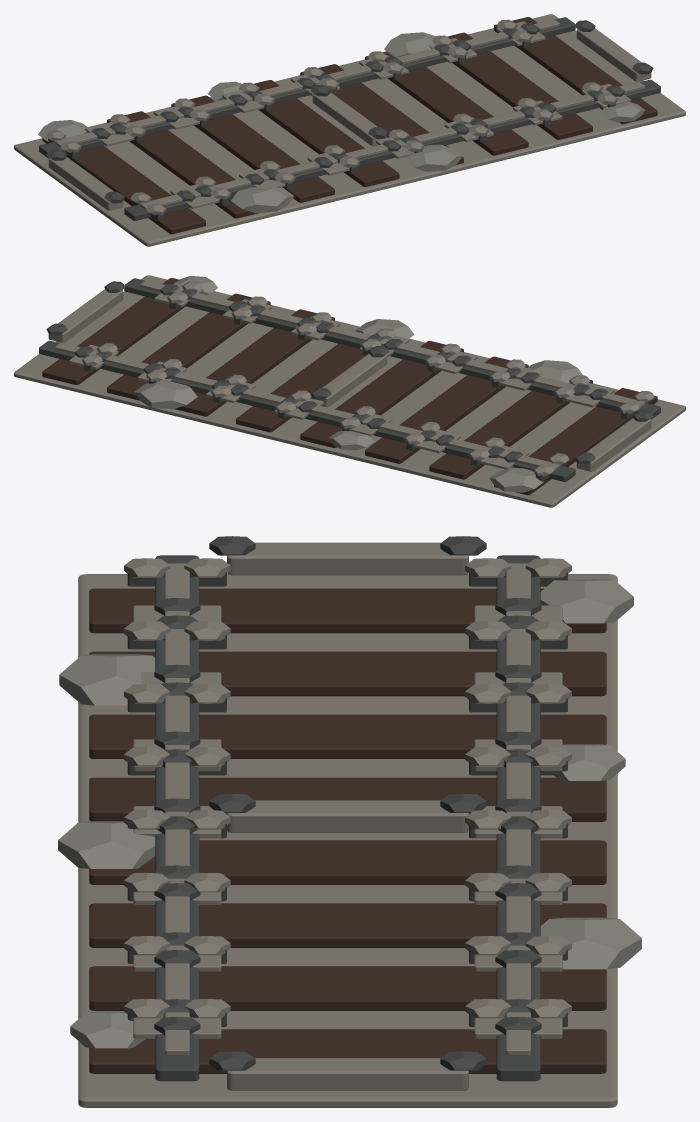
Rendered from extra_mine_rail.glb.
3 renders of one model, top to bottom at view 1: azimuth 30°, elevation 25°; view 2: azimuth 150°, elevation 25°; view 3: azimuth 270°, elevation 25°, orthographic. The views are drawn at different scales.
Visible parts, largest first — view 1: metal, stone; view 2: metal, stone; view 3: metal, stone.
Part boxes in pixels (<box>): metal: <box>14,14,685,246</box>; stone: <box>38,32,645,213</box>; metal: <box>14,275,685,507</box>; stone: <box>134,276,582,492</box>; metal: <box>78,536,617,1107</box>; stone: <box>58,579,641,1048</box>.
Bounding box in the file's own units: 2.8 × 0.12 × 1.3.
